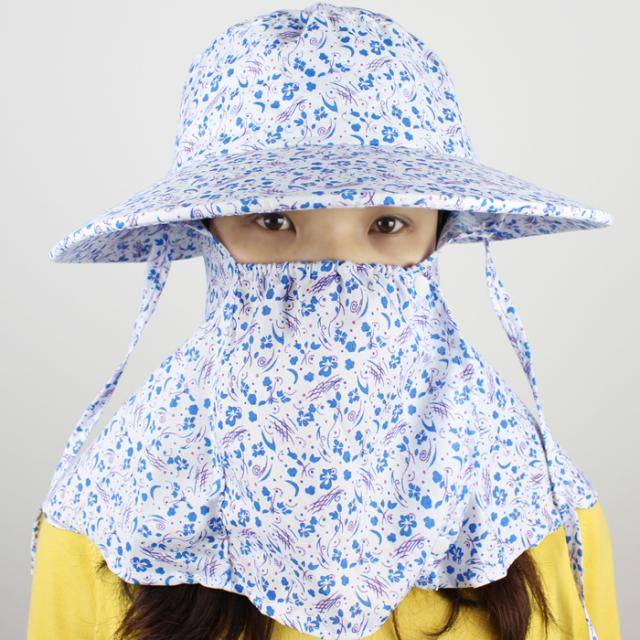mask: (211, 116, 440, 394)
